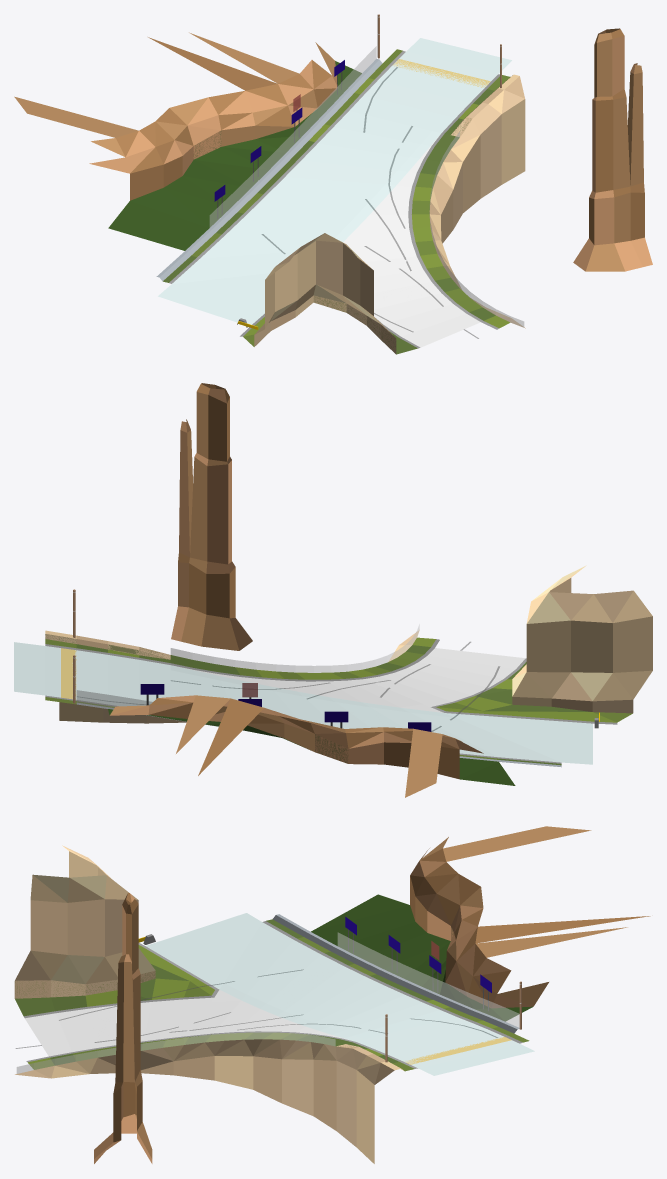
The picture shows the model from 3 angles, top to bottom: view 1: azimuth 30°, elevation 25°; view 2: azimuth 150°, elevation 25°; view 3: azimuth 270°, elevation 25°; orthographic projection. The views are drawn at different scales.
Parts seen in each view (by area): view 1: O1D4D4; view 2: O1D4D4; view 3: O1D4D4.
Part boxes in pixels (x1,y1,x2,y2): O1D4D4: [14, 14, 652, 354]; O1D4D4: [14, 383, 652, 797]; O1D4D4: [14, 826, 650, 1163].
Size of the model in its own units: 143 by 71 by 164.
